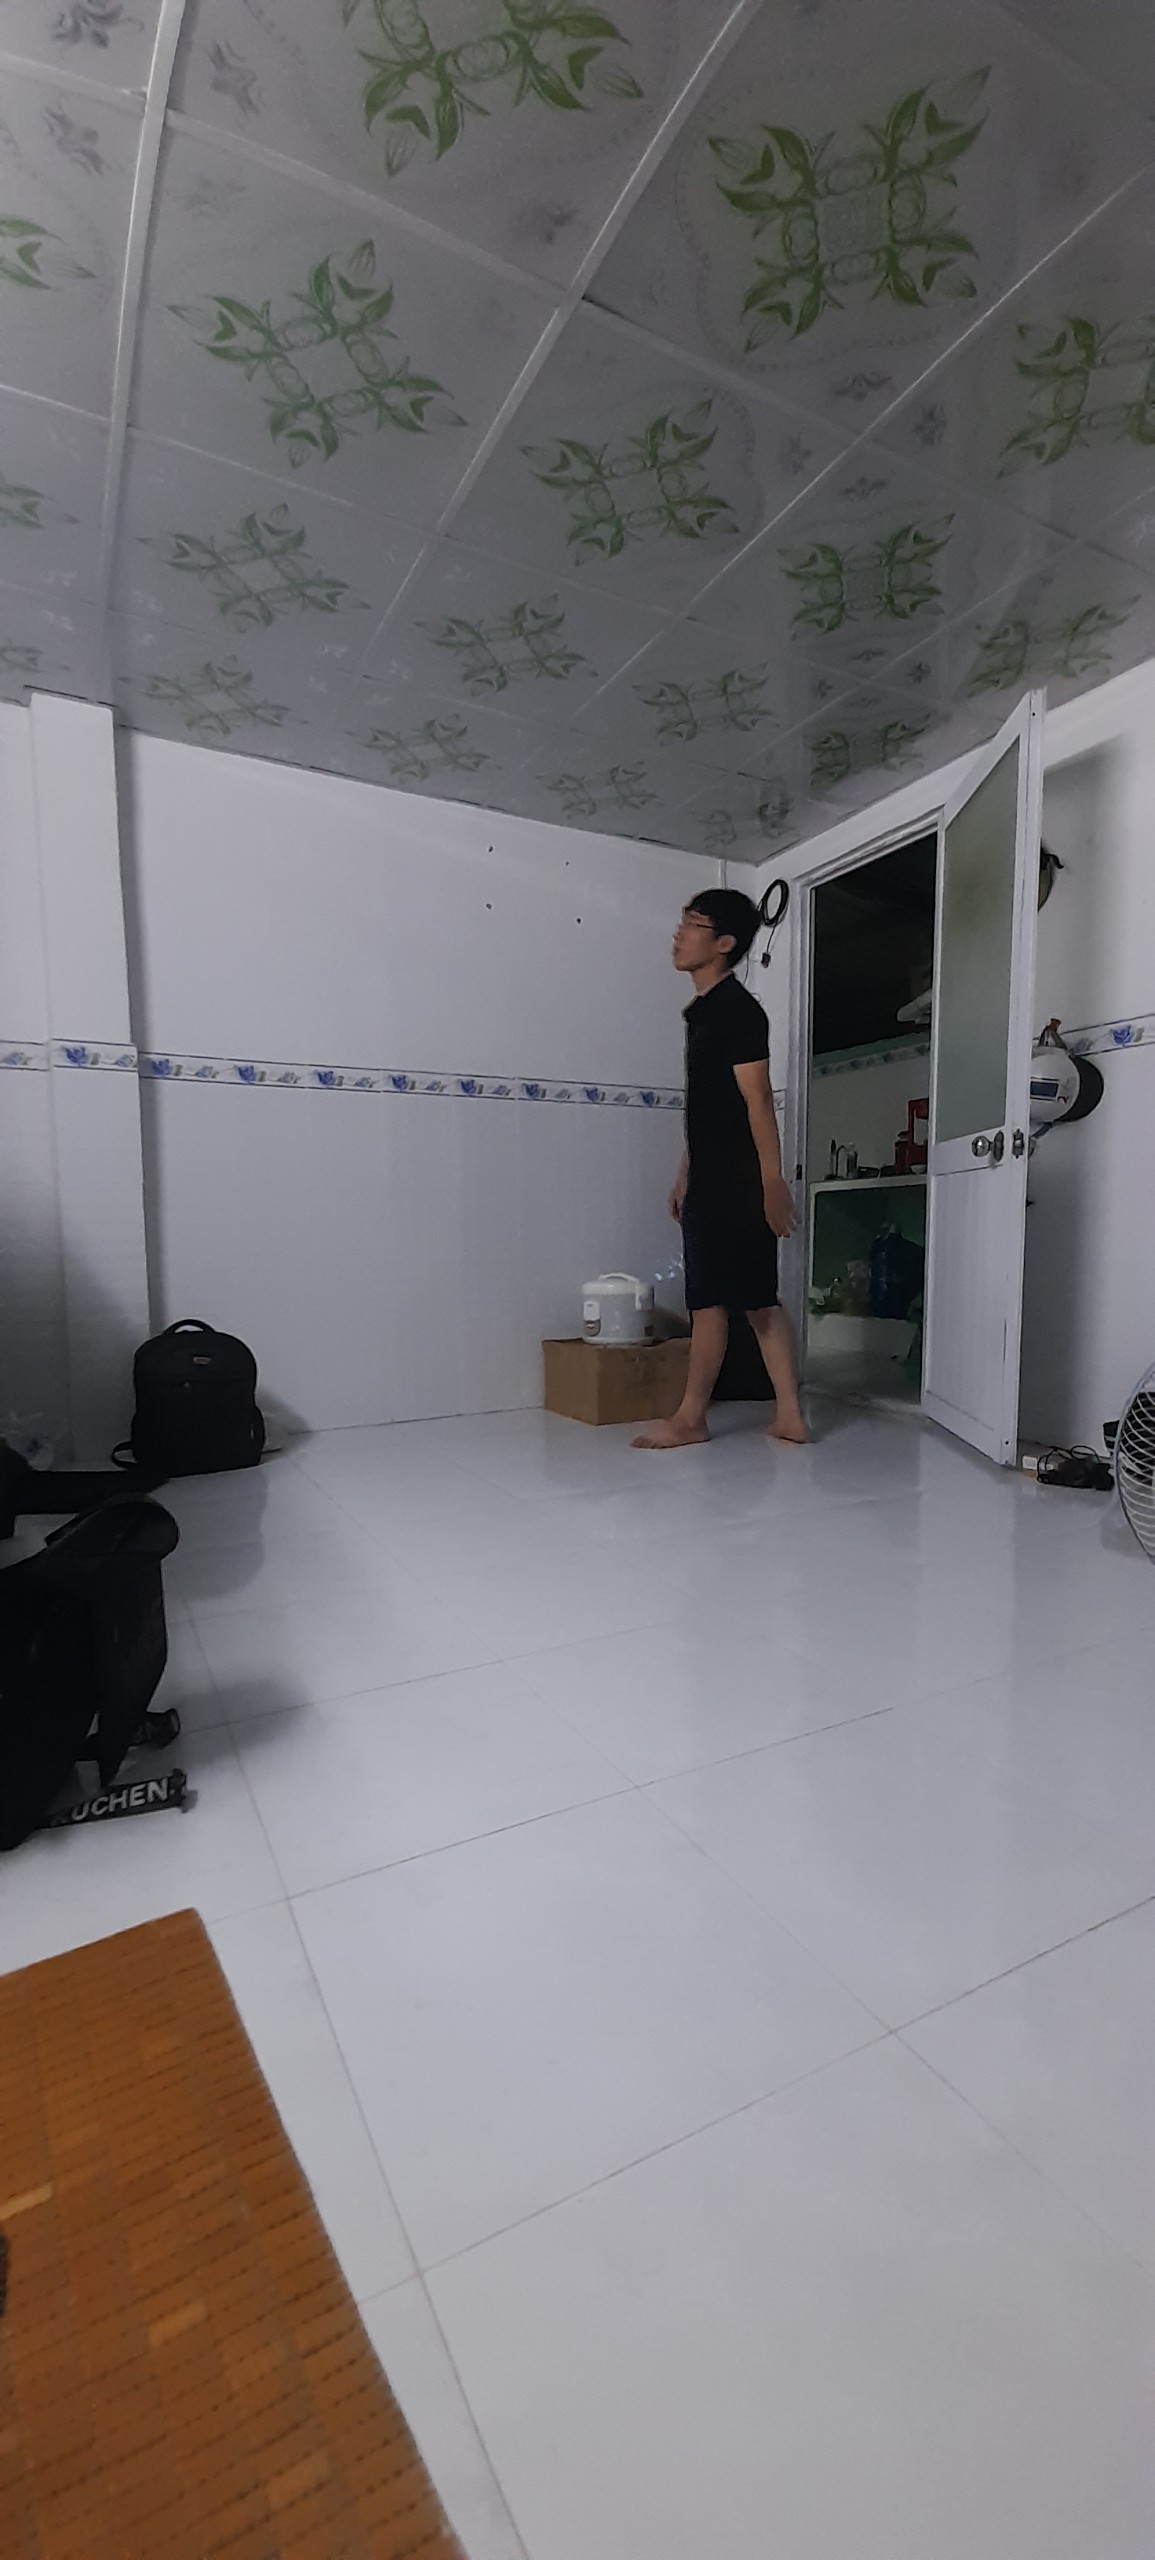person: (627, 893, 819, 1447)
